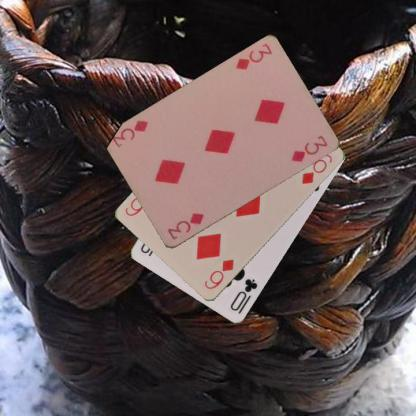10c: (228, 276, 258, 313)
3d: (165, 210, 205, 242), (233, 41, 273, 72)
6d: (202, 257, 237, 291)
